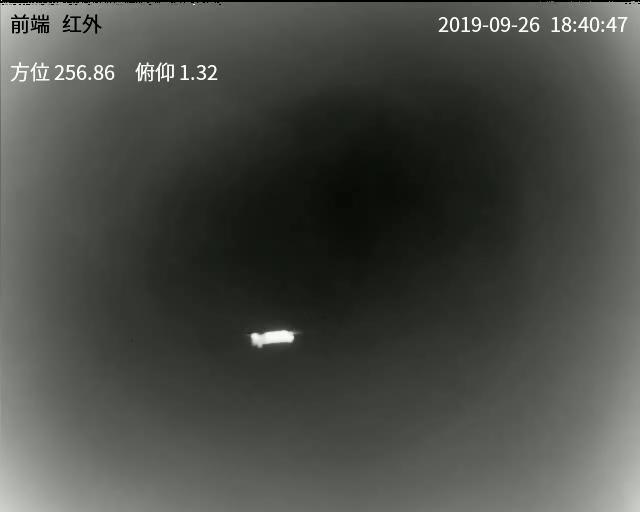uav: (243, 329, 304, 351)
